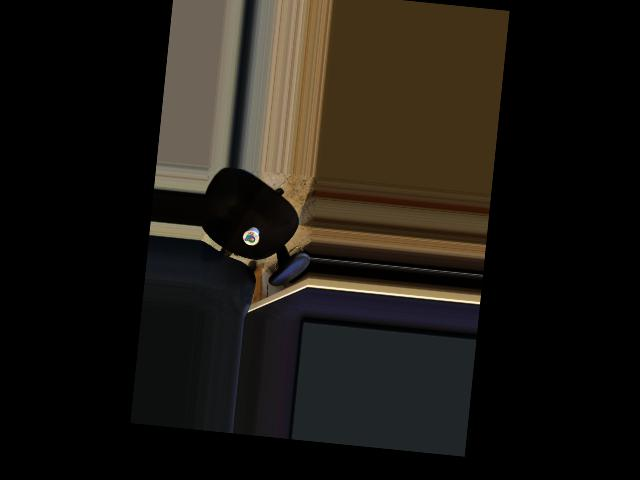cotage: (238, 221, 261, 247)
